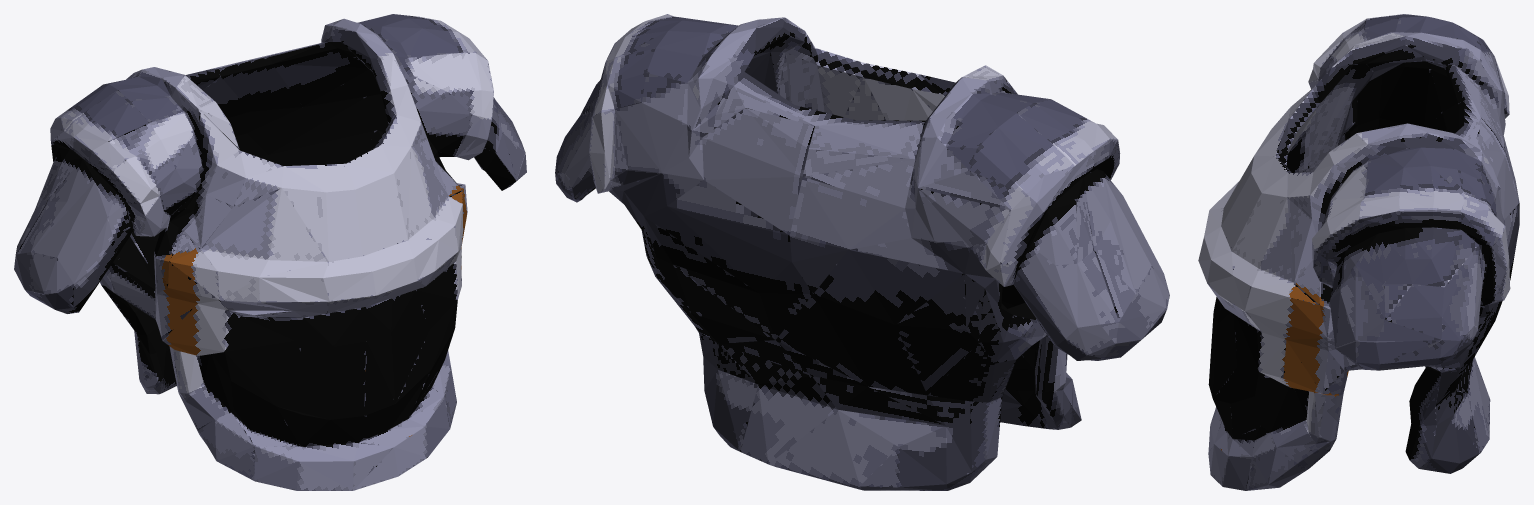
3 renders of one model, left to right at view 1: azimuth 30°, elevation 25°; view 2: azimuth 150°, elevation 25°; view 3: azimuth 270°, elevation 25°, orthographic. The views are drawn at different scales.
Visible parts, largest first — view 1: OBJ022; view 2: OBJ022; view 3: OBJ022.
Boxes of the visible parts, box(x1,y1,x2,y2) form: OBJ022: box(14, 14, 526, 490); OBJ022: box(555, 14, 1169, 490); OBJ022: box(1198, 14, 1519, 490).
Bounding box in the file's own units: 0.2971 × 0.2154 × 0.1644.
Materials: 1 (1 with a texture image).
